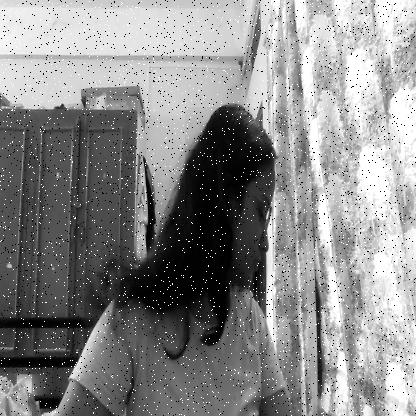Distracted: (185, 107, 286, 292)
